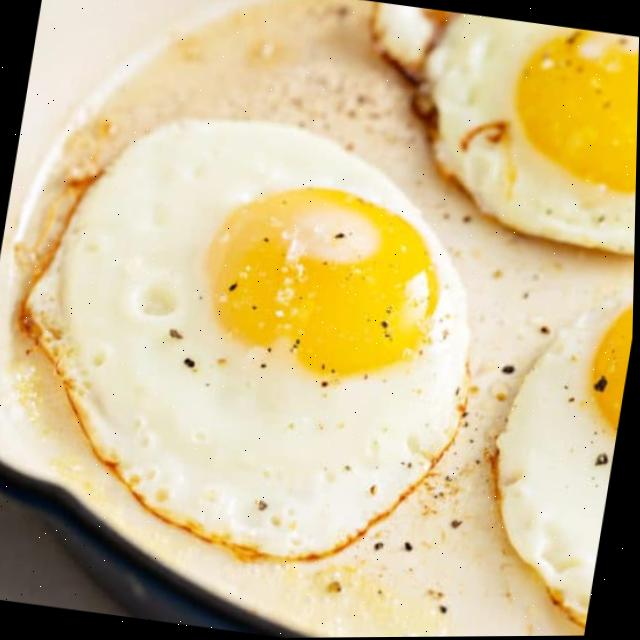Egg: (28, 121, 470, 560), (422, 14, 639, 254), (499, 299, 635, 627)
